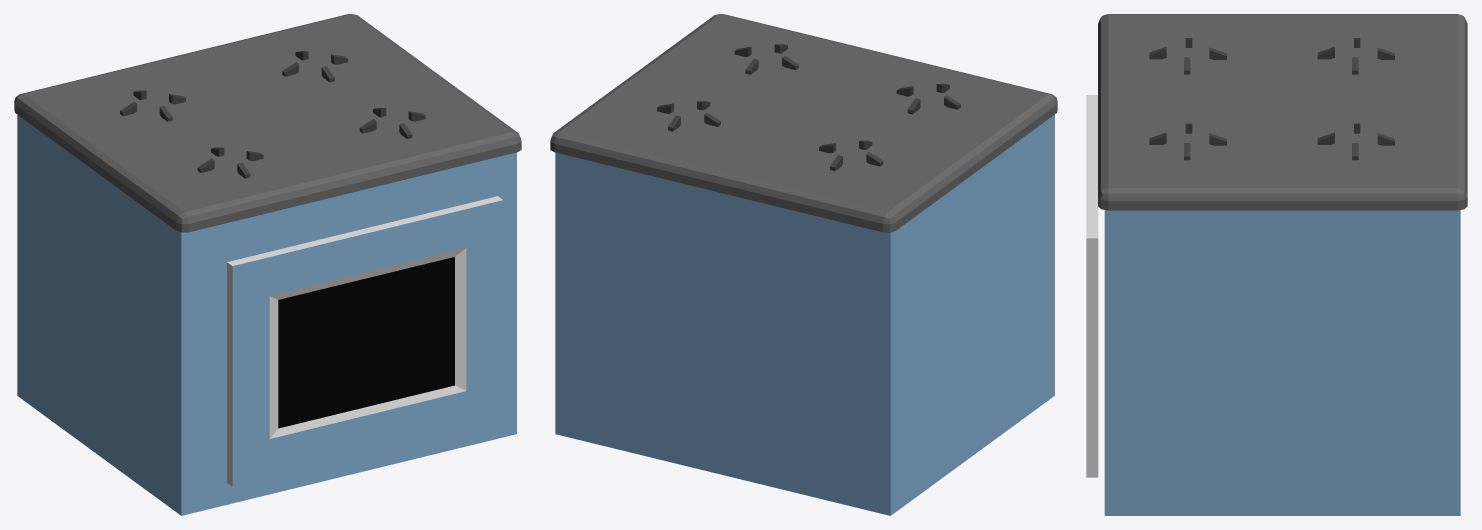
Rendered from ant_stove_.fbx.
The picture shows the model from 3 angles, left to right: view 1: azimuth 30°, elevation 25°; view 2: azimuth 150°, elevation 25°; view 3: azimuth 270°, elevation 25°; orthographic projection. The views are drawn at different scales.
Parts seen in each view (by area): view 1: Cube.012; view 2: Cube.012; view 3: Cube.012.
Boxes of the visible parts, x1,y1,x2,y2 form: Cube.012: (14,14,521,515); Cube.012: (550,14,1057,515); Cube.012: (1086,14,1467,515).
Size of the model in its own units: 94.86 by 81.77 by 83.9.
